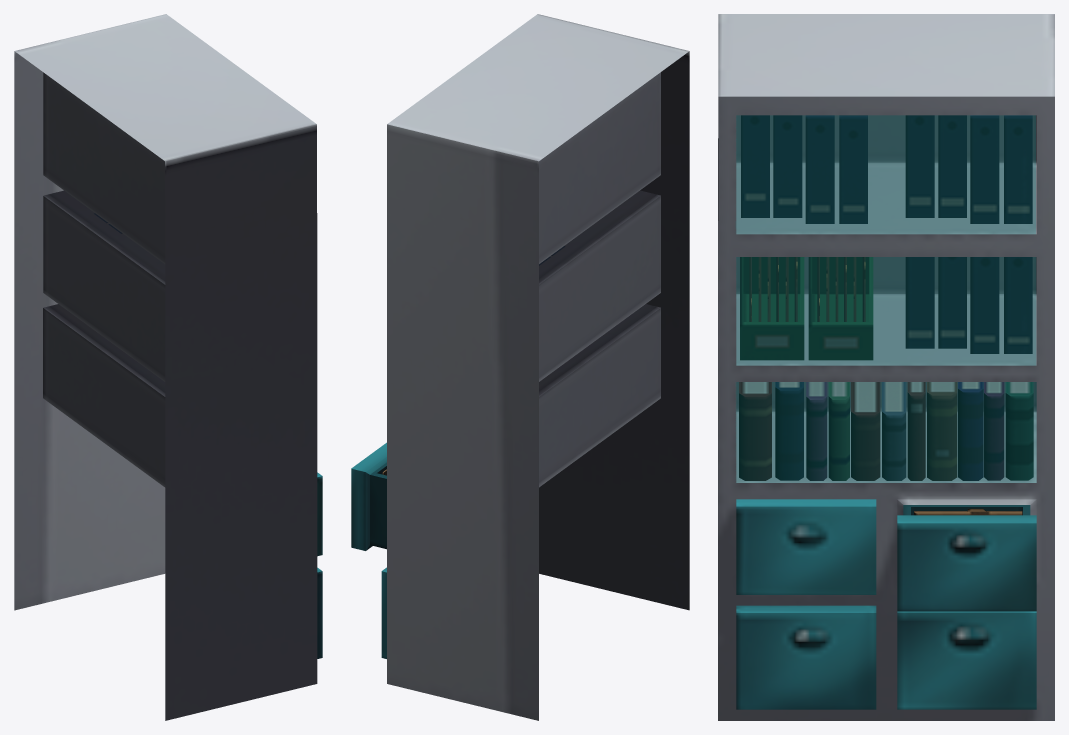
The model's file is Tx_prop_bookshelf_1.fbx.
The picture shows the model from 3 angles, left to right: view 1: azimuth 30°, elevation 25°; view 2: azimuth 150°, elevation 25°; view 3: azimuth 270°, elevation 25°; orthographic projection. The views are drawn at different scales.
Visible parts, largest first — view 1: Tx_prop_bookshelf_11; view 2: Tx_prop_bookshelf_11; view 3: Tx_prop_bookshelf_11.
Boxes of the visible parts, left/top/right/bottom form: Tx_prop_bookshelf_11: left=14, top=14, right=322, bottom=720; Tx_prop_bookshelf_11: left=351, top=14, right=689, bottom=720; Tx_prop_bookshelf_11: left=718, top=14, right=1054, bottom=720.
Bounding box in the file's own units: 4.47 × 12.19 × 5.96.
